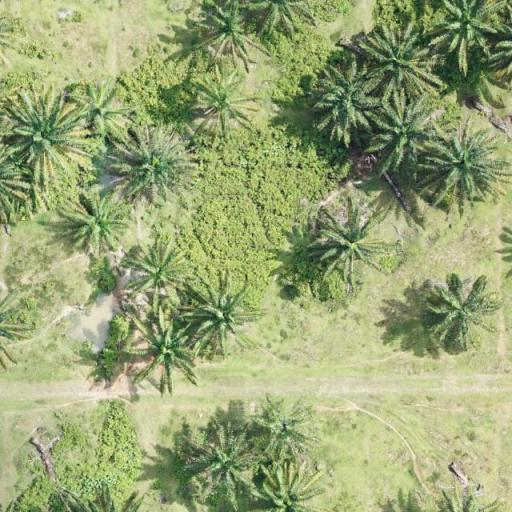Ganoderma: (200, 78, 248, 128), (203, 10, 249, 56), (260, 406, 308, 450), (73, 87, 120, 128)
